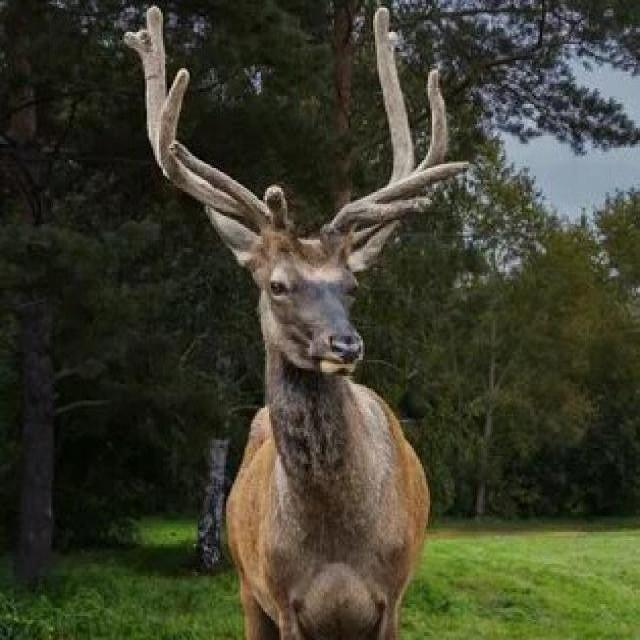deer: (105, 33, 515, 640)
